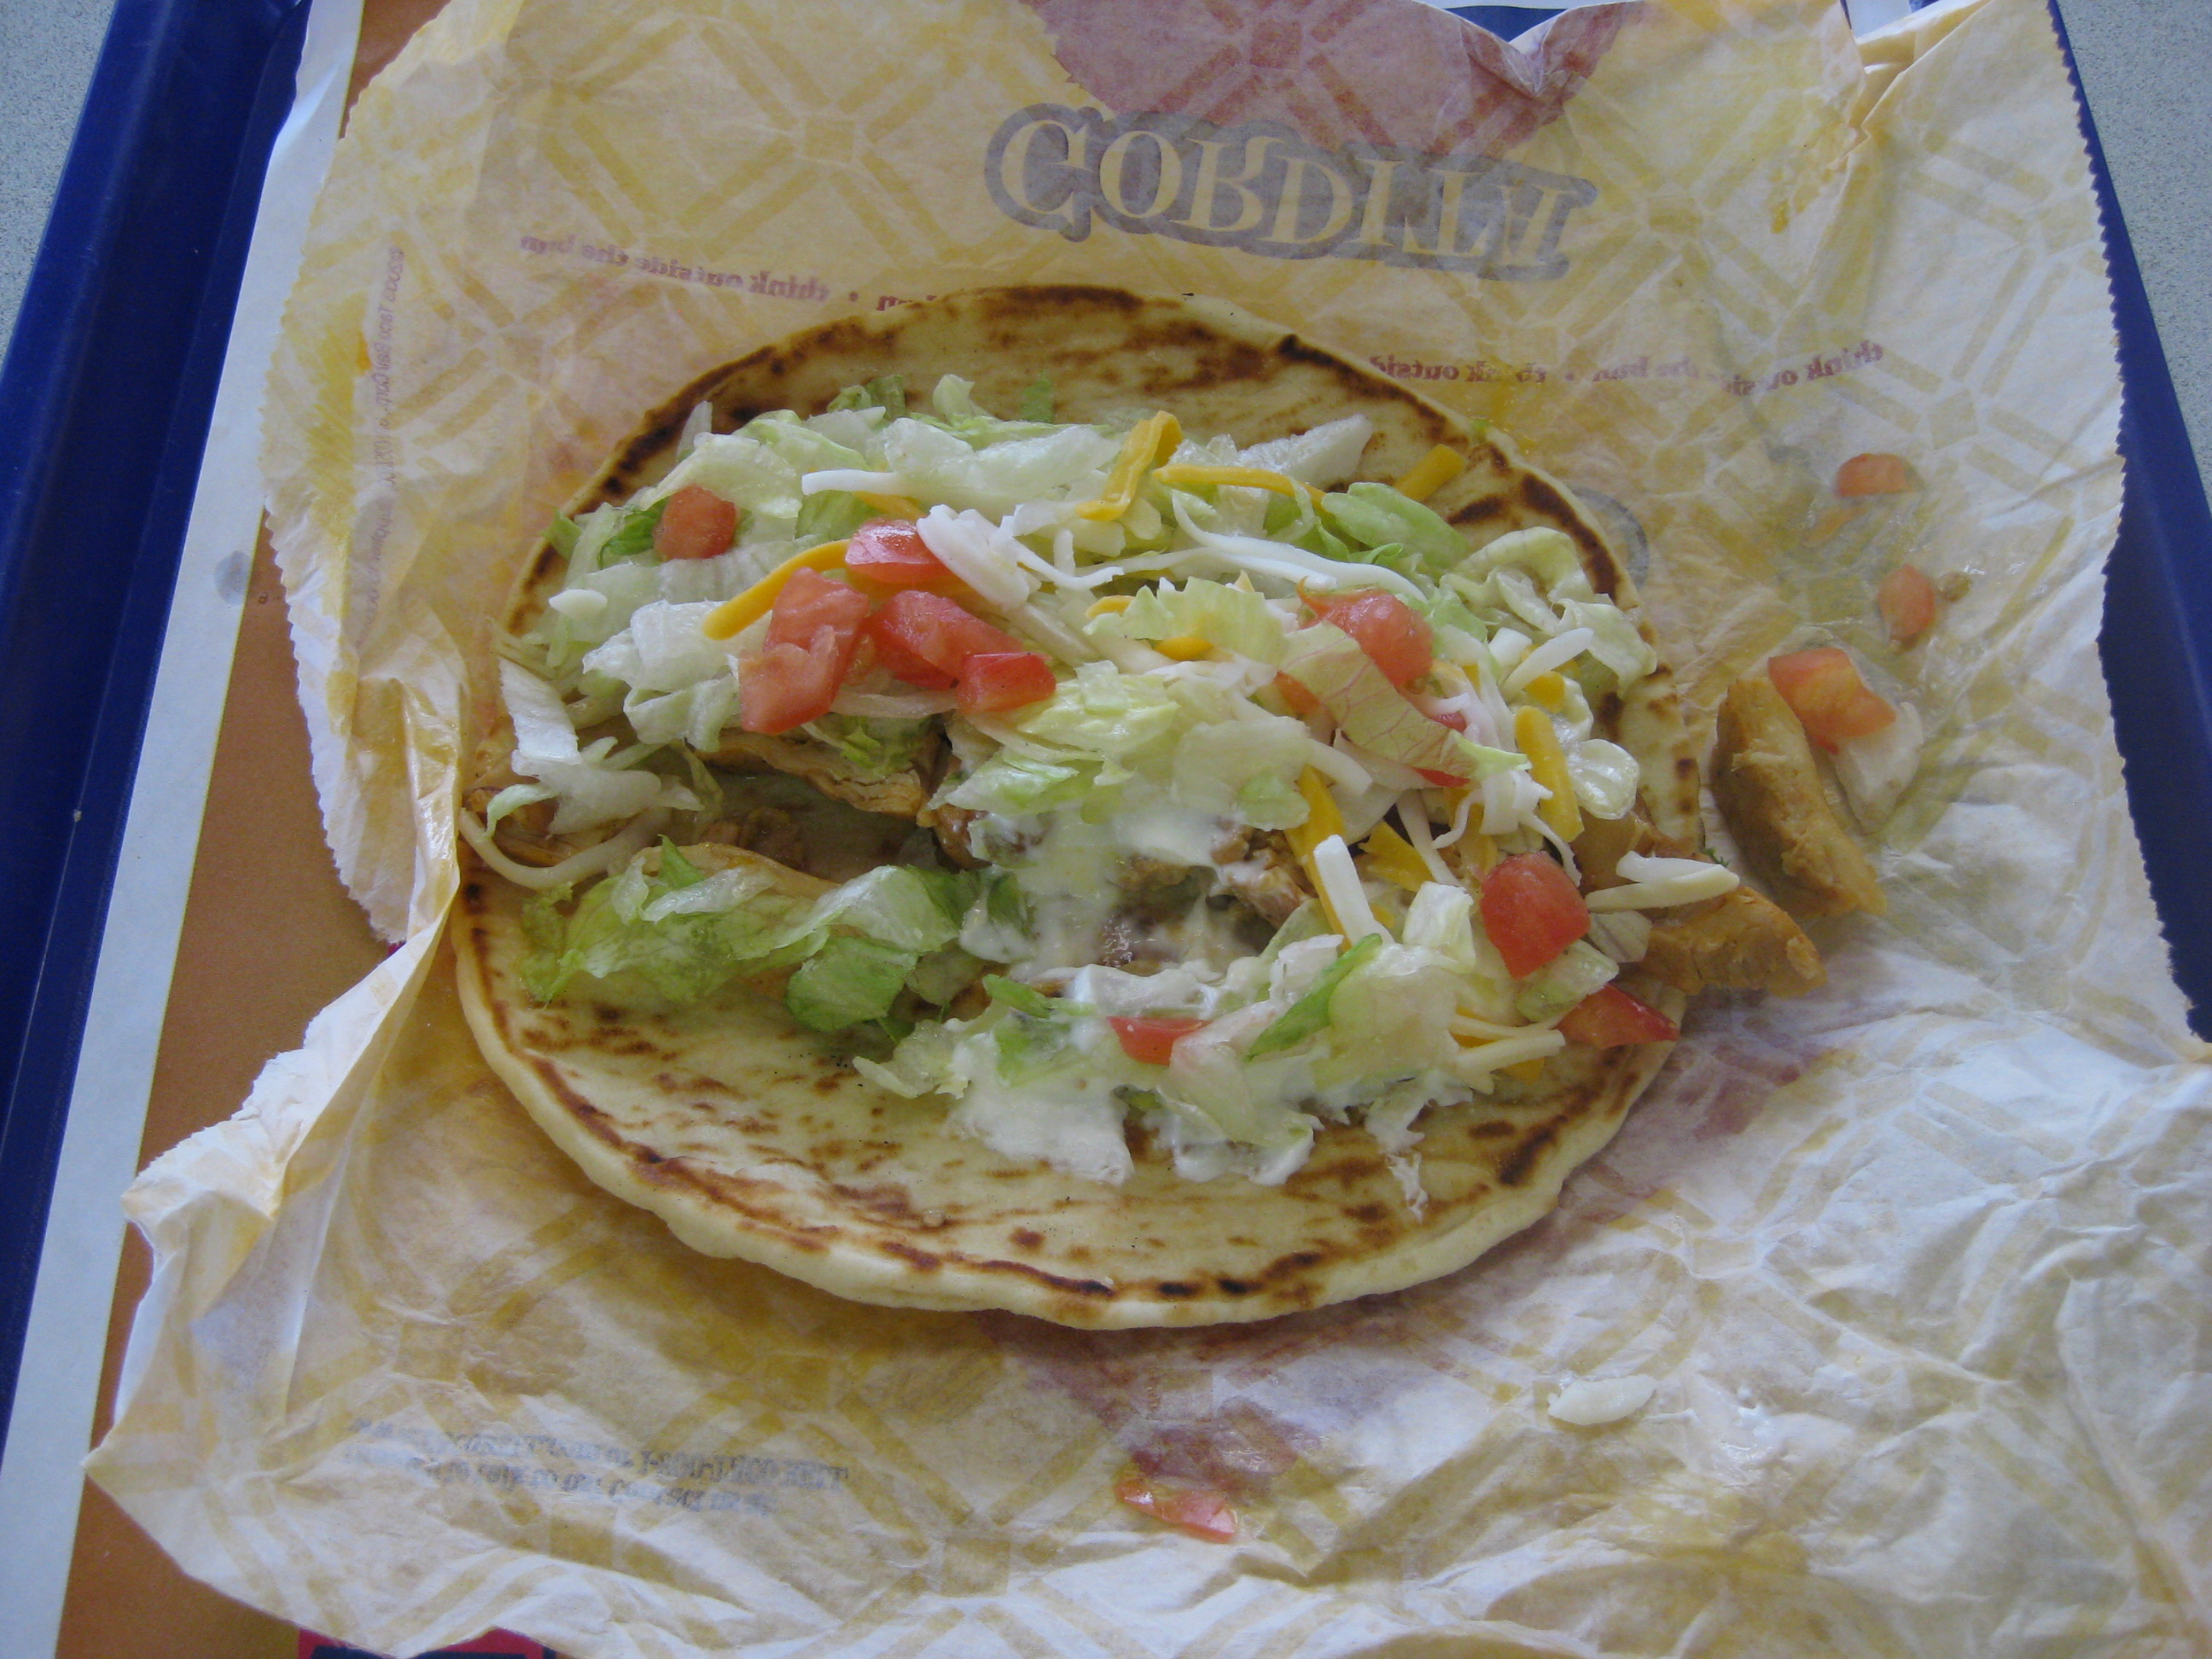taco: (467, 172, 1791, 1354)
